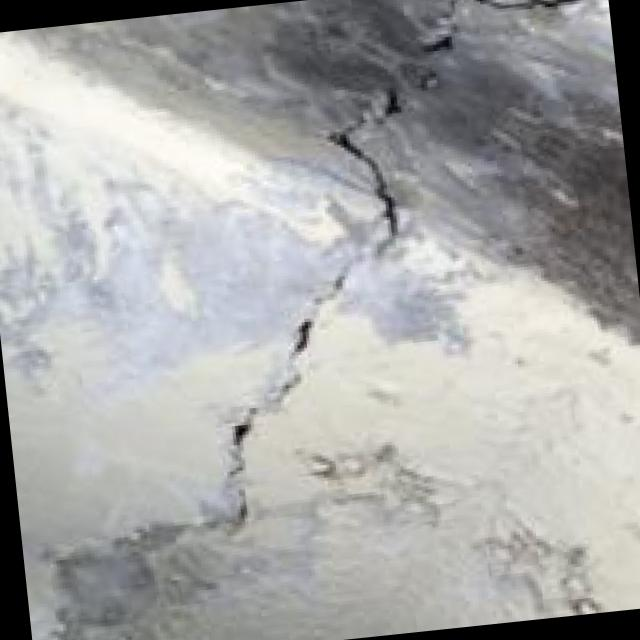crack: (127, 0, 640, 549)
